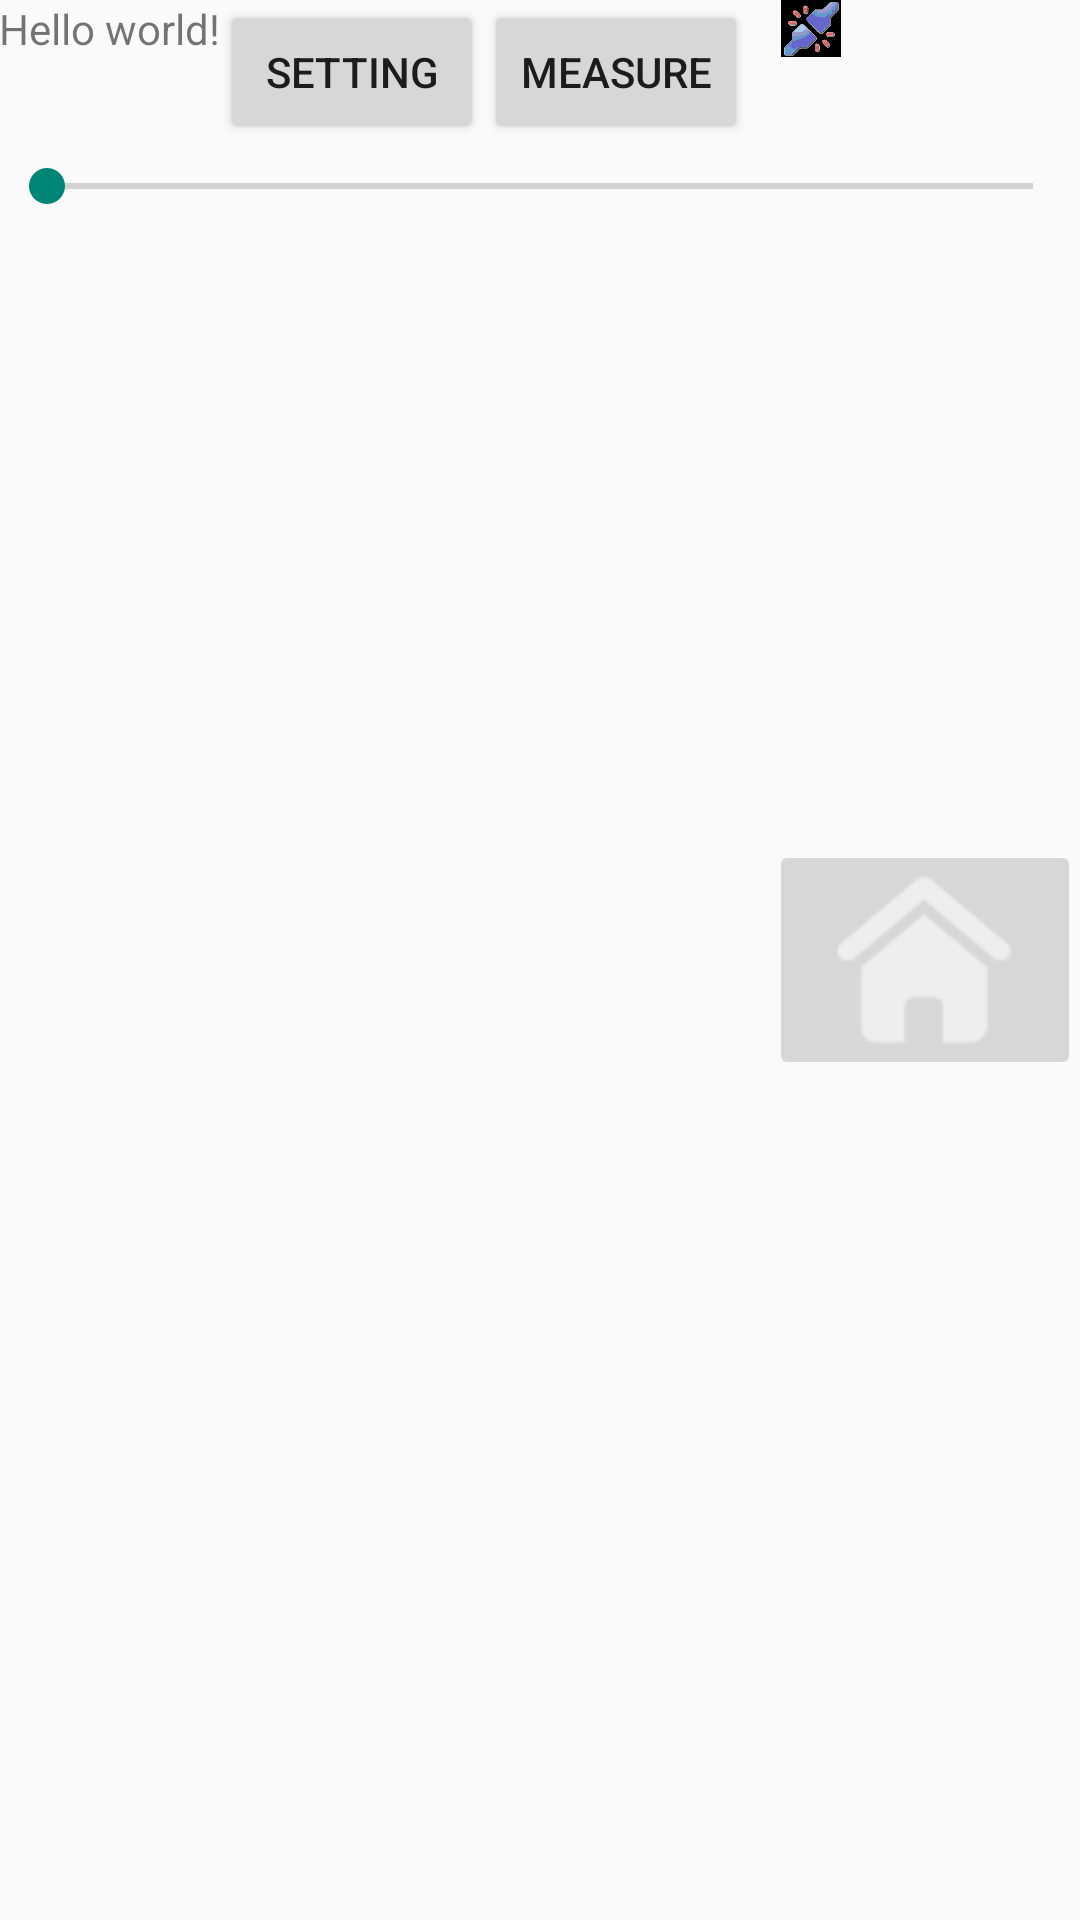

Named icons in this screenshot (1080x1920) and their centers, point (x, y):
home: point (925, 960)
usb disconnection: point (811, 28)
